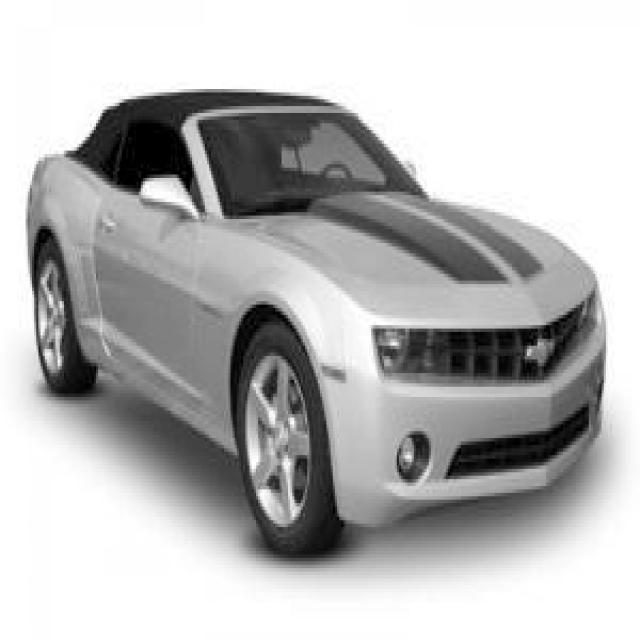car: (23, 85, 606, 558)
